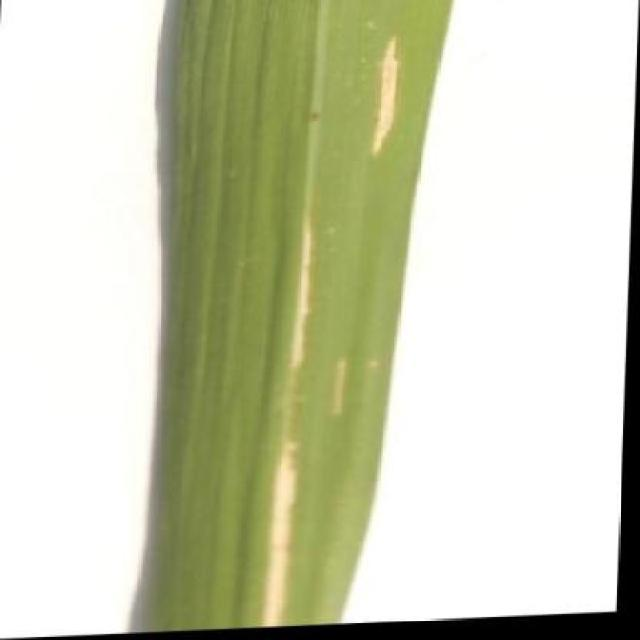Brown_Spot: (248, 214, 399, 631), (327, 31, 451, 171)
